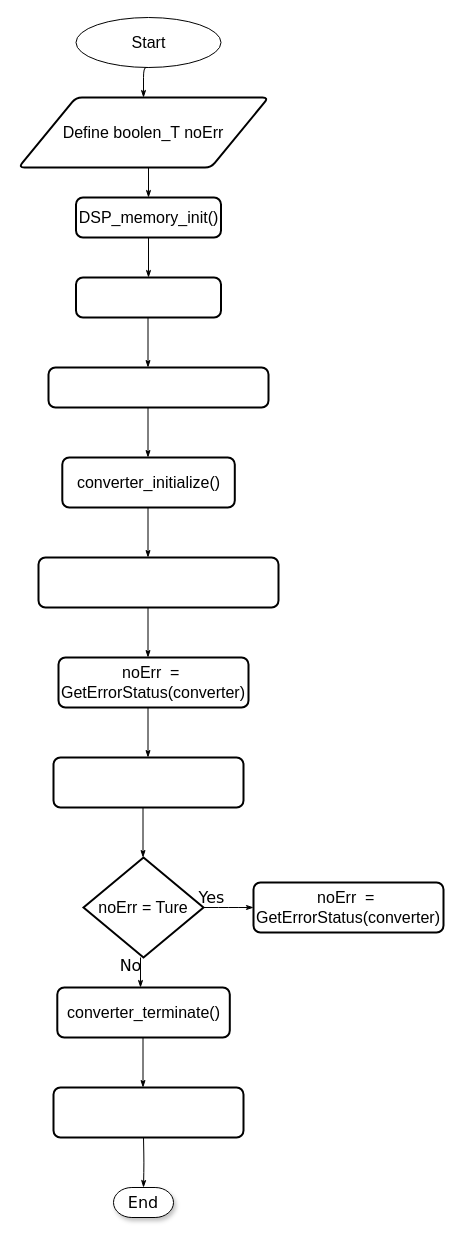
Some shapes in this 461 by 1242 pixel diagram are drawn without their labels. Here are the shapes that lost their labels. From the top down, the centre of each, then its label:
point (148, 297): DSP_board_init()
point (158, 387): SetErrorStatus(converter, 0)
point (158, 582): configureTimer0(systemClock)
point (148, 782): enableInterrupts()
point (148, 1112): disableInterrupts()
